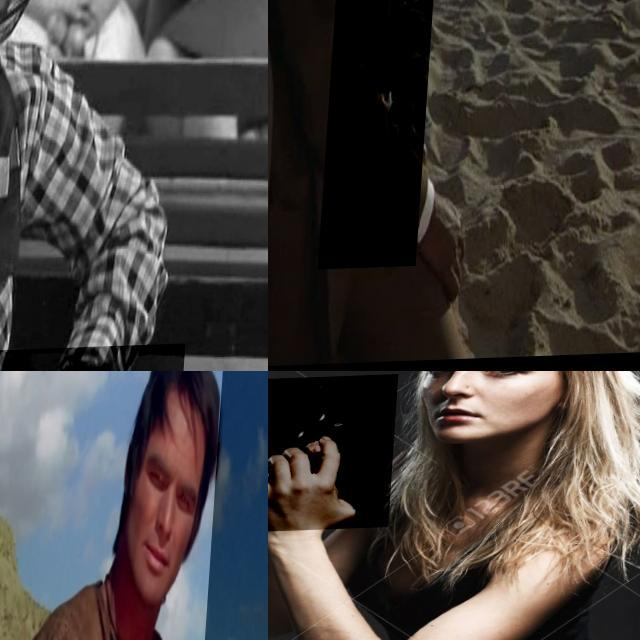gun-knife-thesis - v11 Yolov5 augmented: (325, 0, 440, 271), (268, 375, 399, 533), (192, 371, 268, 640)
